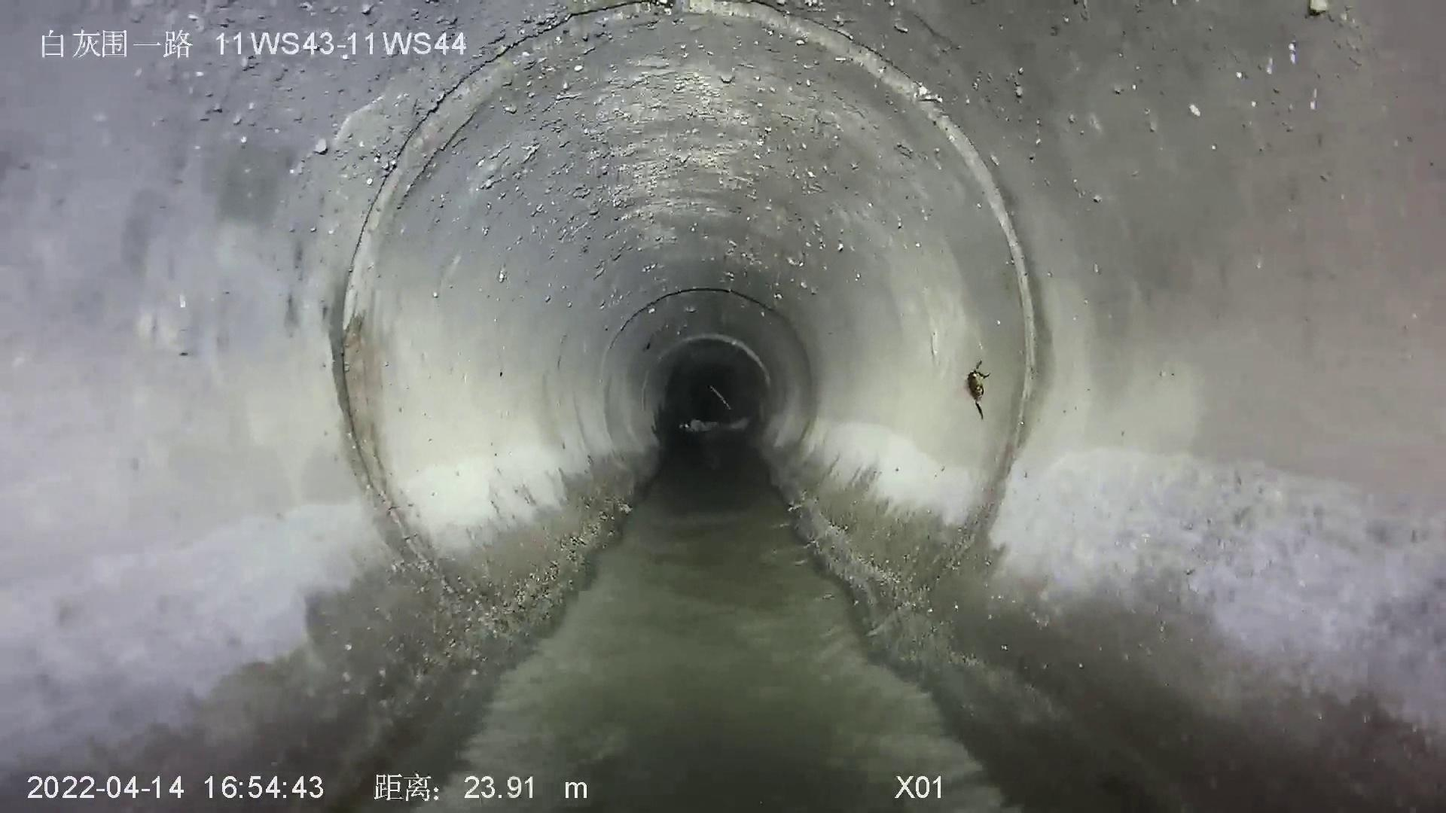CKTJ: (673, 0, 1039, 504), (328, 2, 655, 557)
